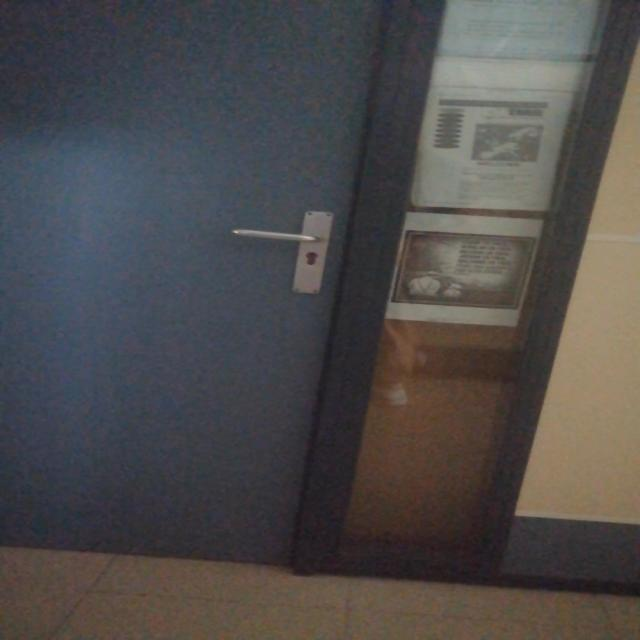door_handle: (227, 226, 325, 247)
